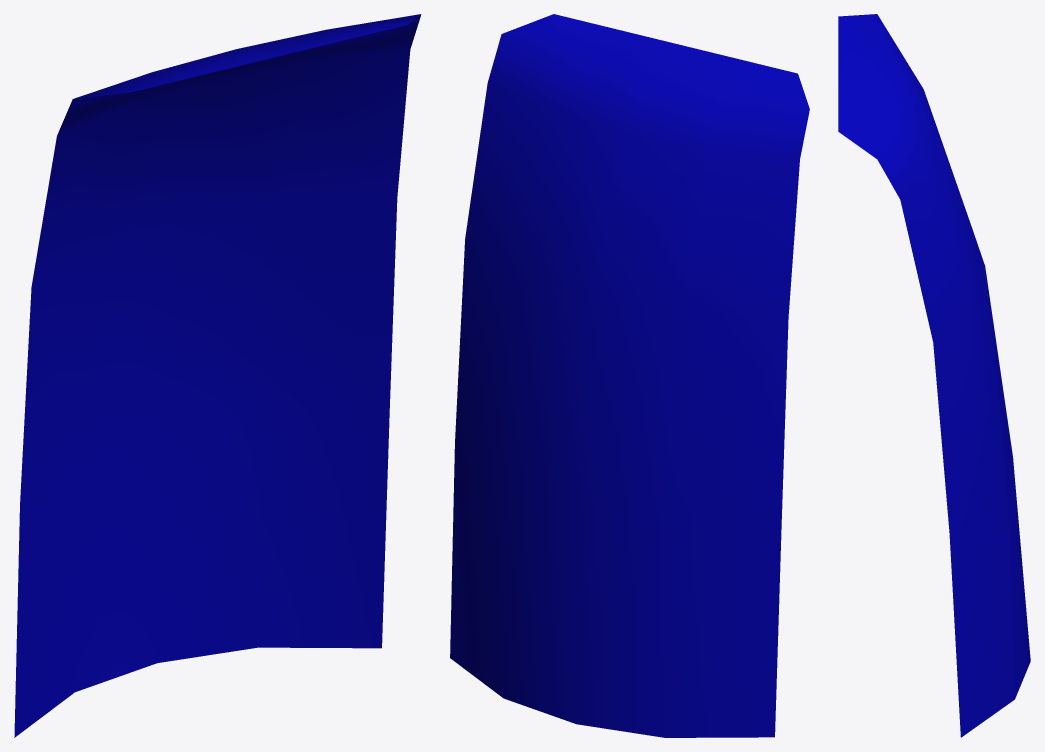
File: m_cape_medium.dae
The picture shows the model from 3 angles, left to right: view 1: azimuth 30°, elevation 25°; view 2: azimuth 150°, elevation 25°; view 3: azimuth 270°, elevation 25°; orthographic projection. The views are drawn at different scales.
Visible parts, largest first — view 1: m_cape_medium_PIVOT; view 2: m_cape_medium_PIVOT; view 3: m_cape_medium_PIVOT.
Boxes of the visible parts, x1=… form: m_cape_medium_PIVOT: x1=14, y1=14, x2=421, y2=737; m_cape_medium_PIVOT: x1=450, y1=14, x2=809, y2=737; m_cape_medium_PIVOT: x1=838, y1=14, x2=1030, y2=737.
Bounding box in the file's own units: 1.02 × 0.5393 × 1.81.
